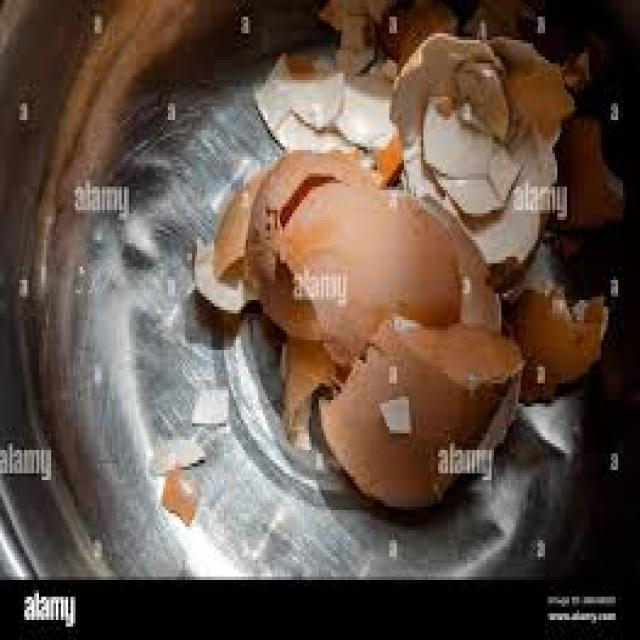Organik: (142, 0, 640, 568)
